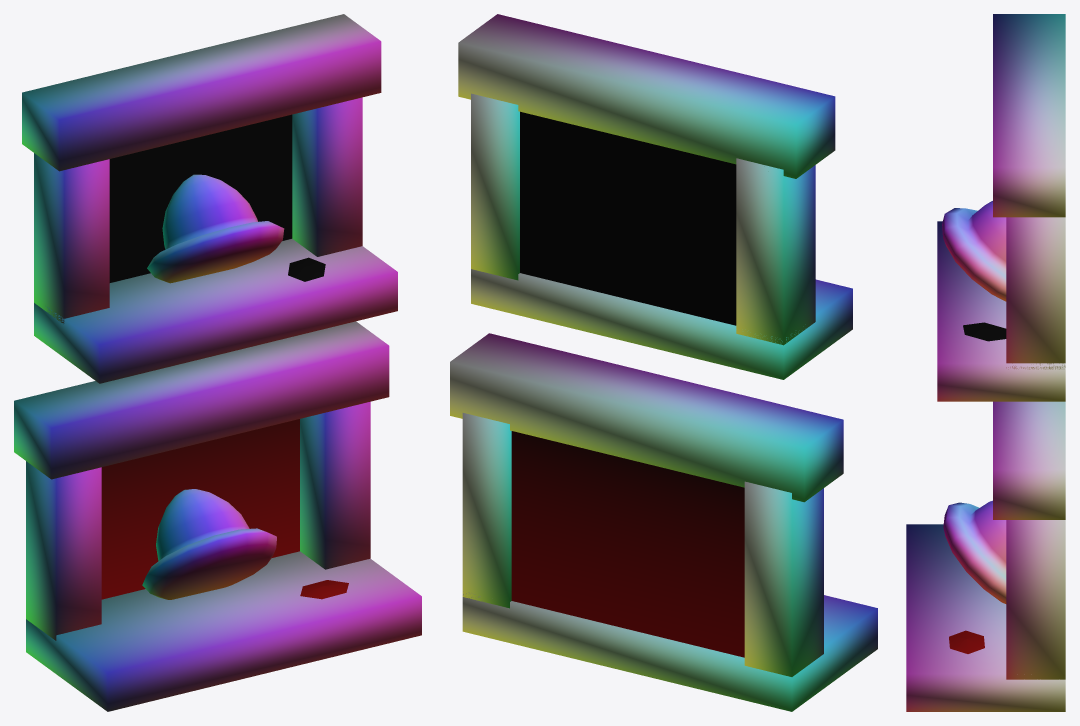
The model's file is SM_Pit_HelmNiche_B_LOD1.fbx.
3 views of the same model, side by side, from view 1: azimuth 30°, elevation 25°; view 2: azimuth 150°, elevation 25°; view 3: azimuth 270°, elevation 25° (orthographic). The views are drawn at different scales.
Visible parts, largest first — view 1: SM_Pit_HelmNiche_B_LOD1; view 2: SM_Pit_HelmNiche_B_LOD1; view 3: SM_Pit_HelmNiche_B_LOD1.
Part boxes in pixels (left/top/right/bottom): SM_Pit_HelmNiche_B_LOD1: left=14, top=14, right=421, bottom=711; SM_Pit_HelmNiche_B_LOD1: left=450, top=14, right=877, bottom=711; SM_Pit_HelmNiche_B_LOD1: left=906, top=14, right=1065, bottom=711.
Size of the model in its own units: 0.8544 by 1.35 by 0.3584.
